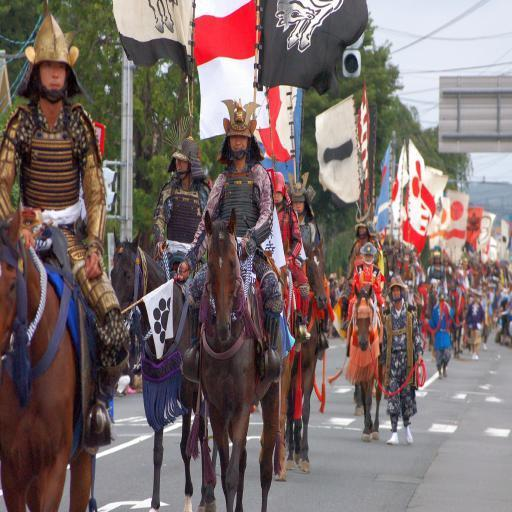horse: (0, 193, 93, 511), (194, 206, 286, 512), (108, 225, 205, 512), (288, 236, 330, 474), (347, 281, 385, 442)
